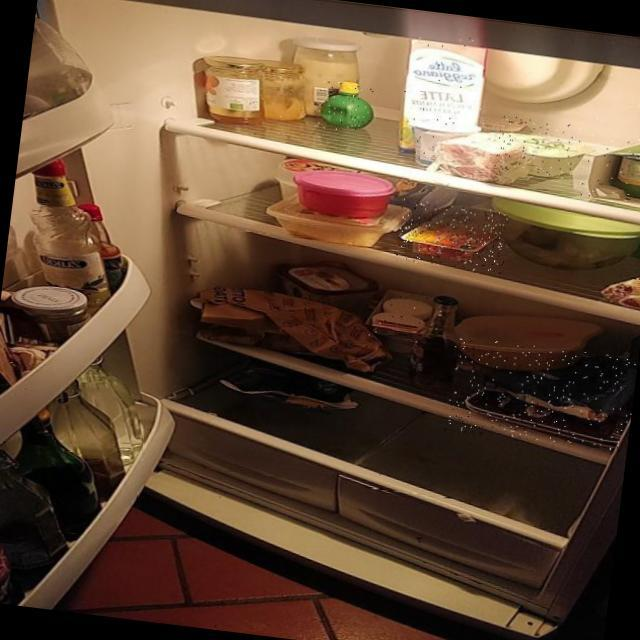Carne cerdo: (445, 336, 638, 452)
Queso: (361, 288, 445, 345)
Yogur: (494, 115, 583, 181), (576, 133, 640, 209)
